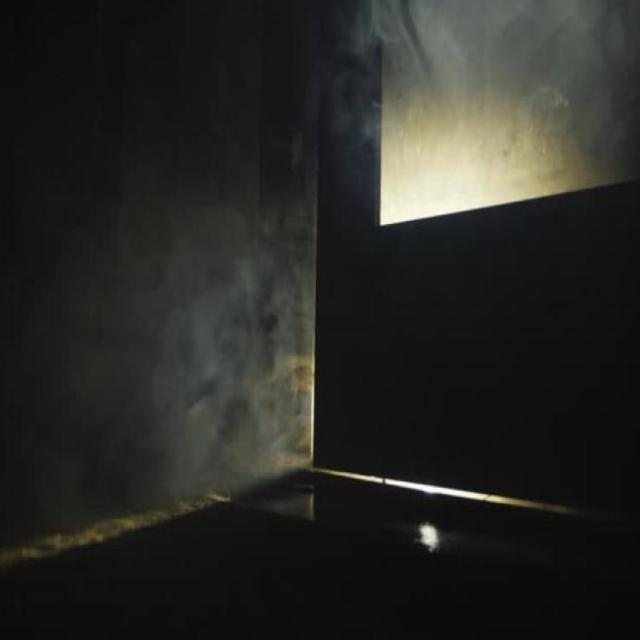fire: (126, 136, 316, 503), (313, 0, 640, 139)
